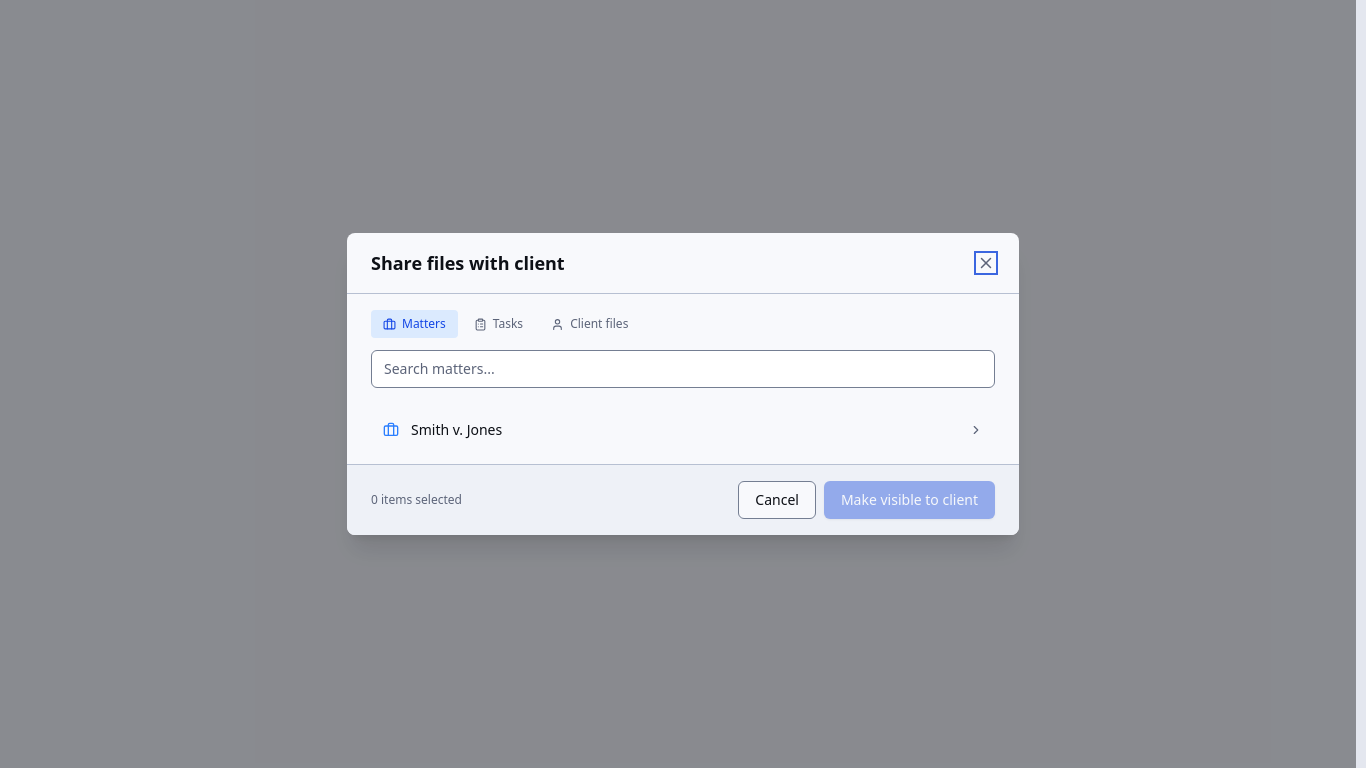
it: ClientShareFilePicker file listing › stays quiet when the folder listing was complete
The image size is (1366, 768).
Click the button "Smith v. Jones" at (457, 430), box [371,408,995,452]
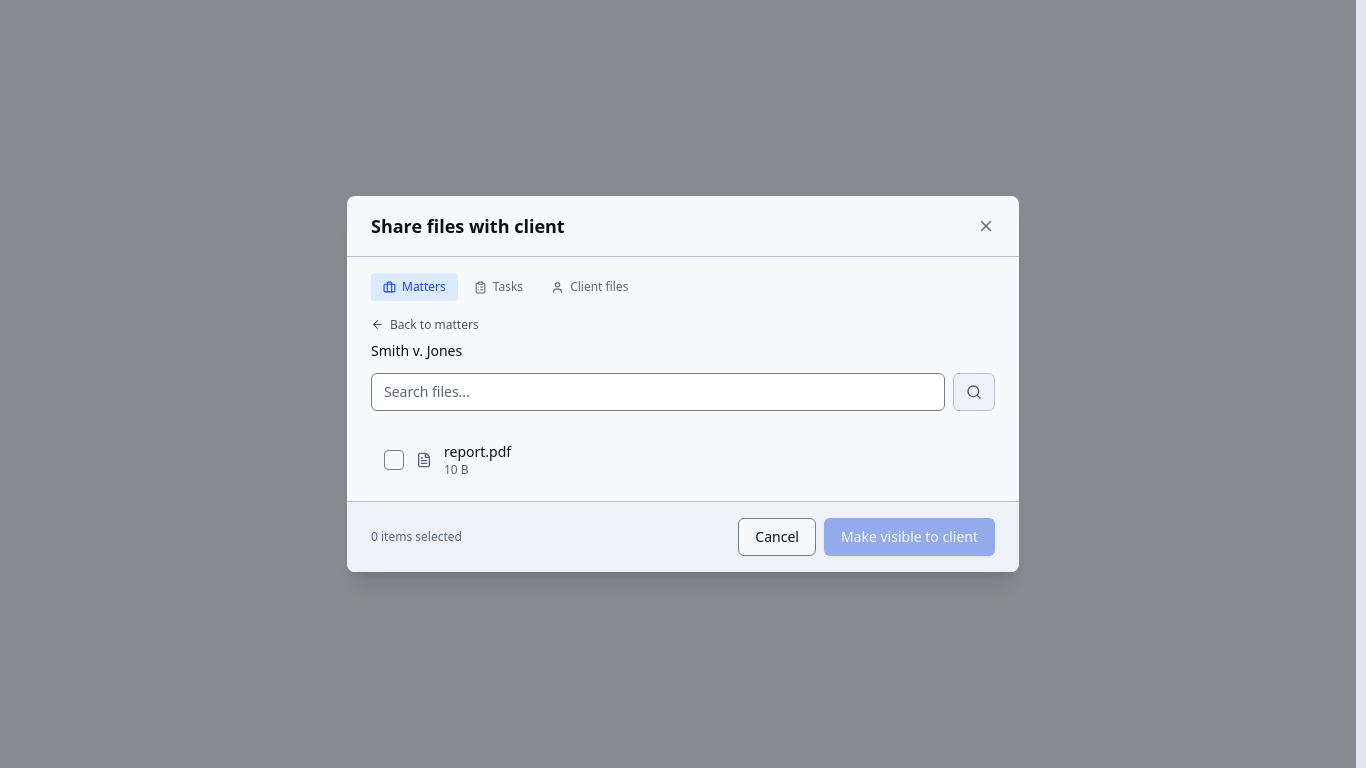
expect the text "report.pdf" is shown: met, box [444,442,511,461]
